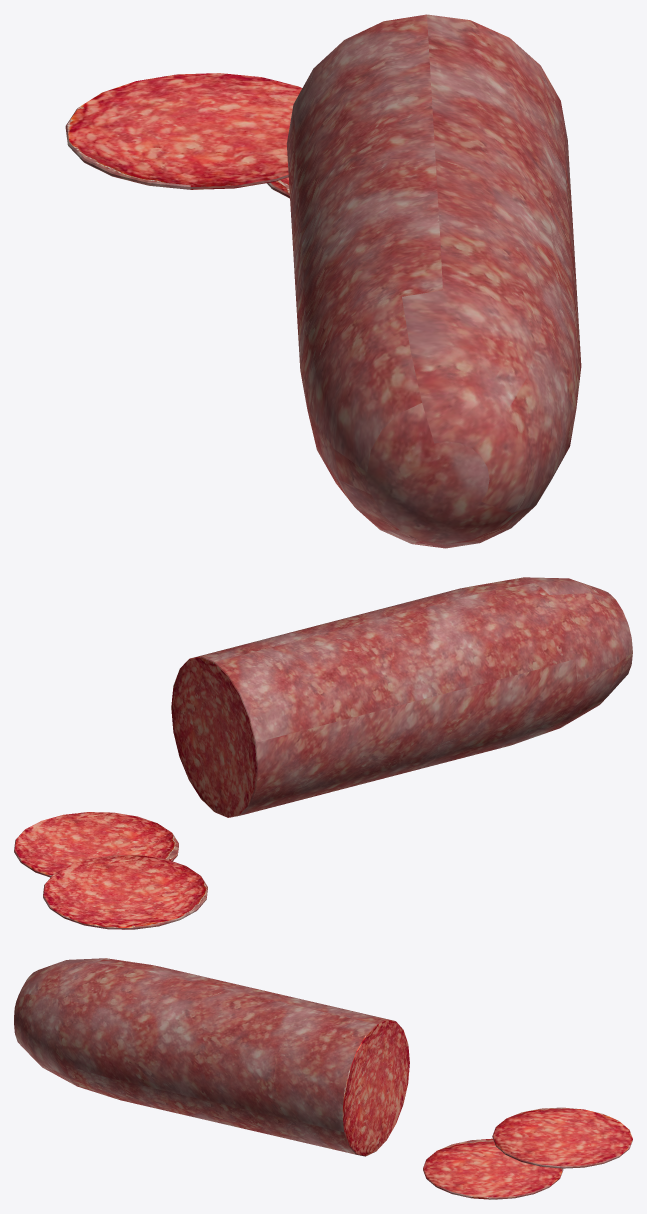
Rendered from salami.fbx.
3 renders of one model, top to bottom at view 1: azimuth 30°, elevation 25°; view 2: azimuth 150°, elevation 25°; view 3: azimuth 270°, elevation 25°, orthographic. The views are drawn at different scales.
Visible parts, largest first — view 1: salami; view 2: salami; view 3: salami.
Part boxes in pixels (left/top/right/bottom): salami: left=65, top=14, right=581, bottom=548; salami: left=14, top=577, right=632, bottom=929; salami: left=14, top=958, right=632, bottom=1199.
Bounding box in the file's own units: 2.42 × 1 × 4.4.
Materials: 1 (1 with a texture image).
